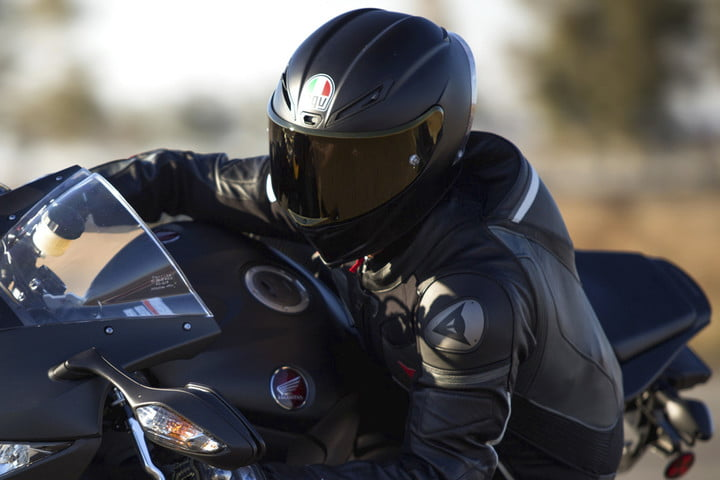with_helmet: (257, 3, 482, 249)
